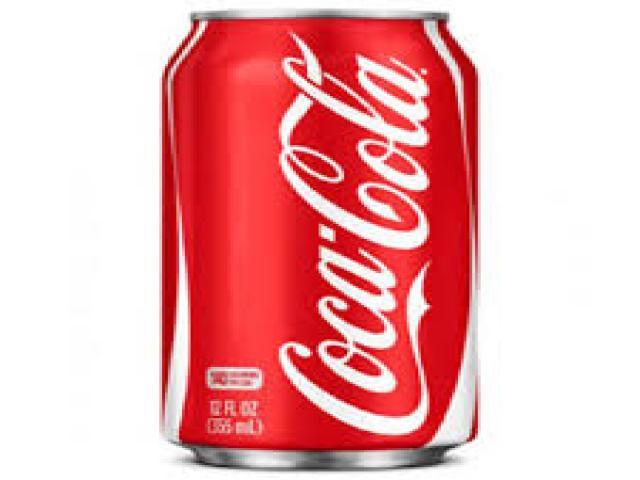Canned_drinks: (159, 13, 478, 467)
